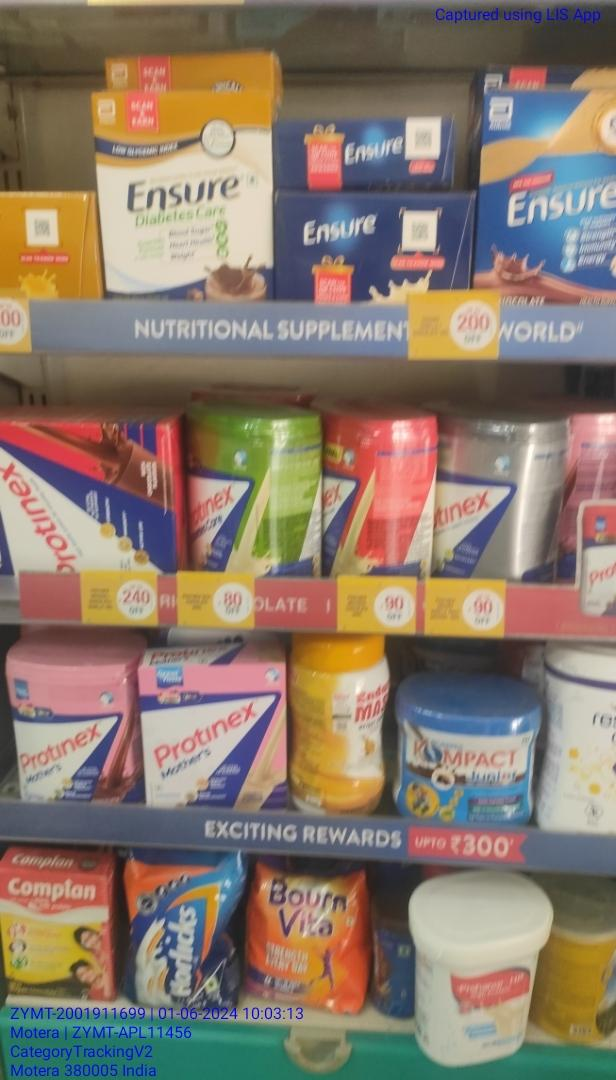PROTINEX_ORIGINAL_400_G_JAR: (433, 421, 522, 577)
